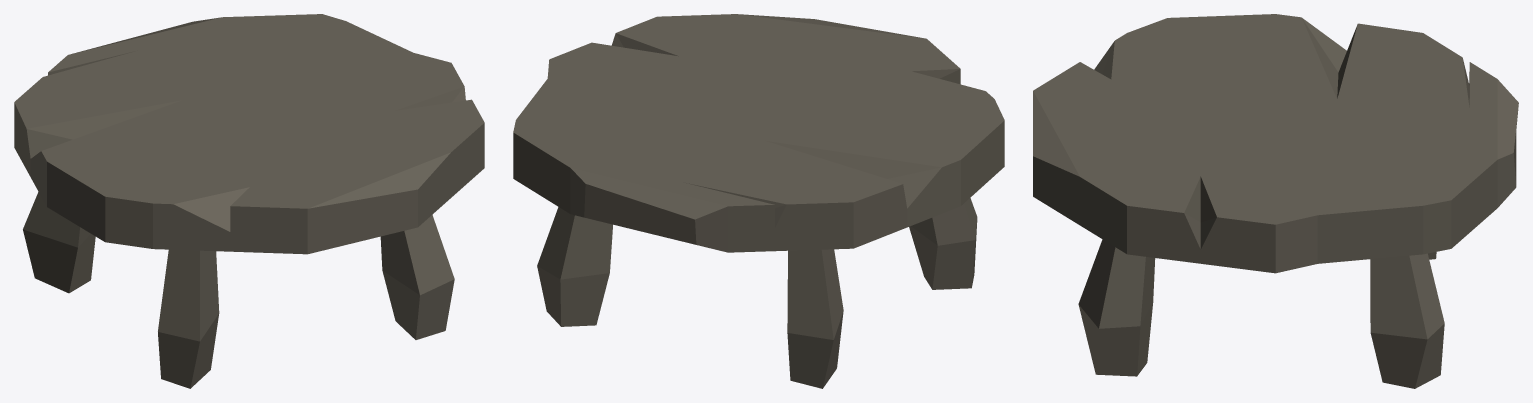
File: Table.fbx
3 views of the same model, side by side, from view 1: azimuth 30°, elevation 25°; view 2: azimuth 150°, elevation 25°; view 3: azimuth 270°, elevation 25° (orthographic). The views are drawn at different scales.
Visible parts, largest first — view 1: Table; view 2: Table; view 3: Table.
Boxes of the visible parts, x1,y1,x2,y2 form: Table: (14, 14, 484, 388); Table: (513, 14, 1004, 388); Table: (1033, 14, 1518, 388).
Bounding box in the file's own units: 483 × 212 × 471.
1 material, 1 textured.
